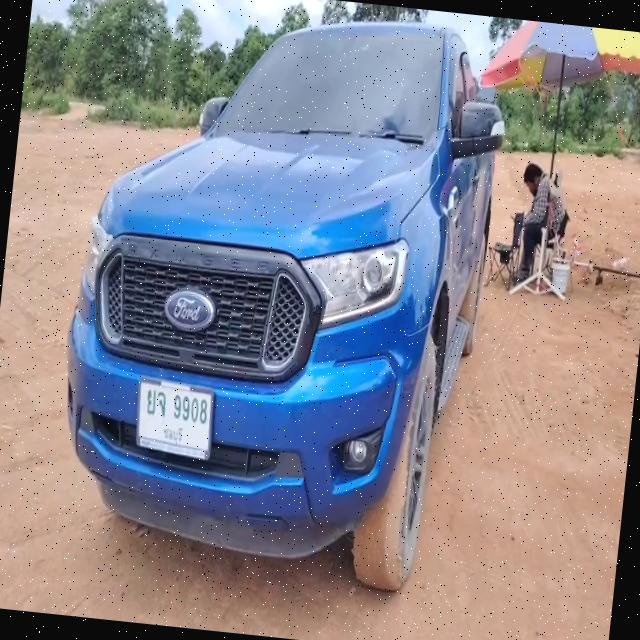Digit: (173, 393, 208, 424)
Licenseplate: (136, 380, 212, 458)
Provincename: (163, 423, 183, 447)
Thaichar: (147, 388, 166, 417)
